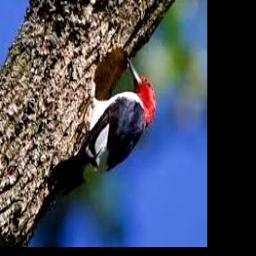Woodpecker: (48, 58, 156, 207)
